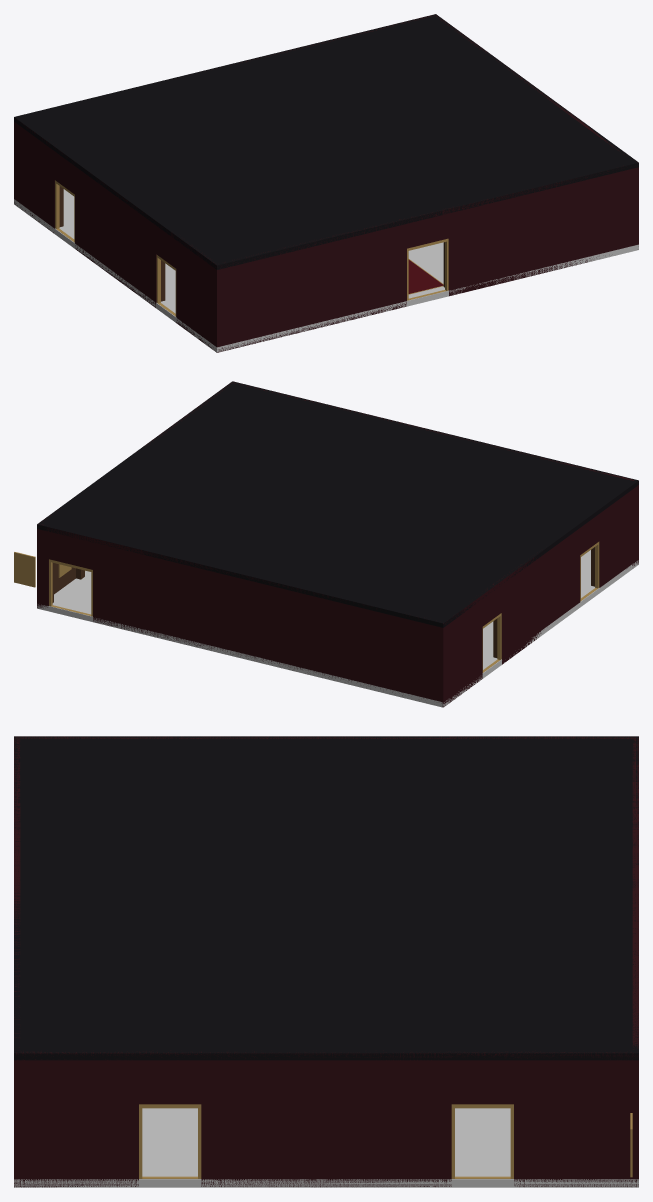
Rendered from vip.glb.
3 views of the same model, one above another, from view 1: azimuth 30°, elevation 25°; view 2: azimuth 150°, elevation 25°; view 3: azimuth 270°, elevation 25° (orthographic). The views are drawn at different scales.
Parts seen in each view (by area): view 1: vip; view 2: vip; view 3: vip.
Part boxes in pixels (x1,y1,x2,y2): vip: (14,14,638,352); vip: (14,381,638,707); vip: (14,736,638,1187).
Size of the model in its own units: 25.47 by 4.75 by 20.
